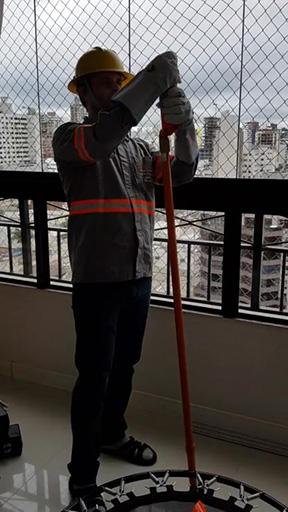Vara_Manobra: (157, 134, 197, 491)
